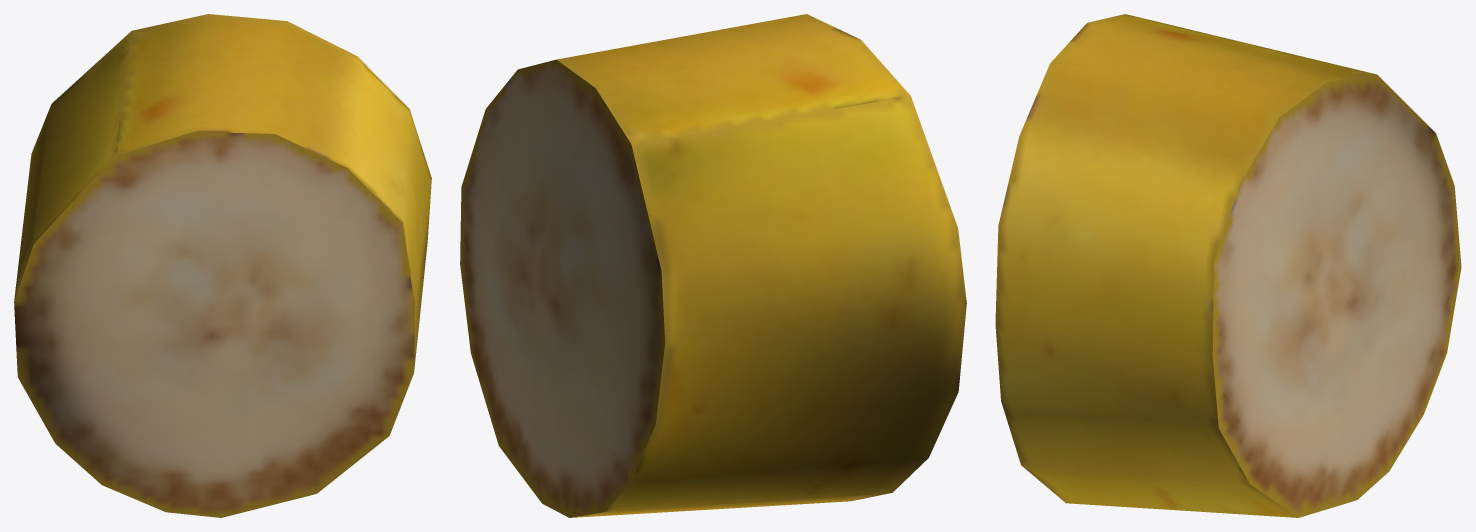
The model's file is banana_part_1.FBX.
3 views of the same model, side by side, from view 1: azimuth 30°, elevation 25°; view 2: azimuth 150°, elevation 25°; view 3: azimuth 270°, elevation 25° (orthographic). The views are drawn at different scales.
Parts seen in each view (by area): view 1: banana_part_1; view 2: banana_part_1; view 3: banana_part_1.
Boxes of the visible parts, x1,y1,x2,y2 form: banana_part_1: (14,14,431,517); banana_part_1: (460,14,966,517); banana_part_1: (995,14,1461,517).
Bounding box in the file's own units: 0.1413 × 0.1272 × 0.1203.
